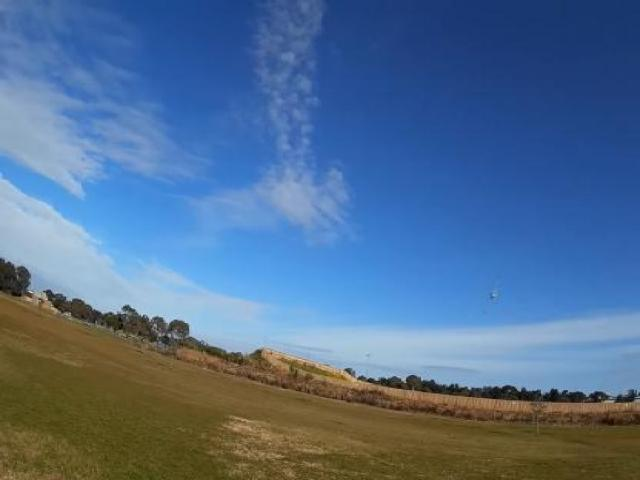uav: (474, 270, 508, 317)
